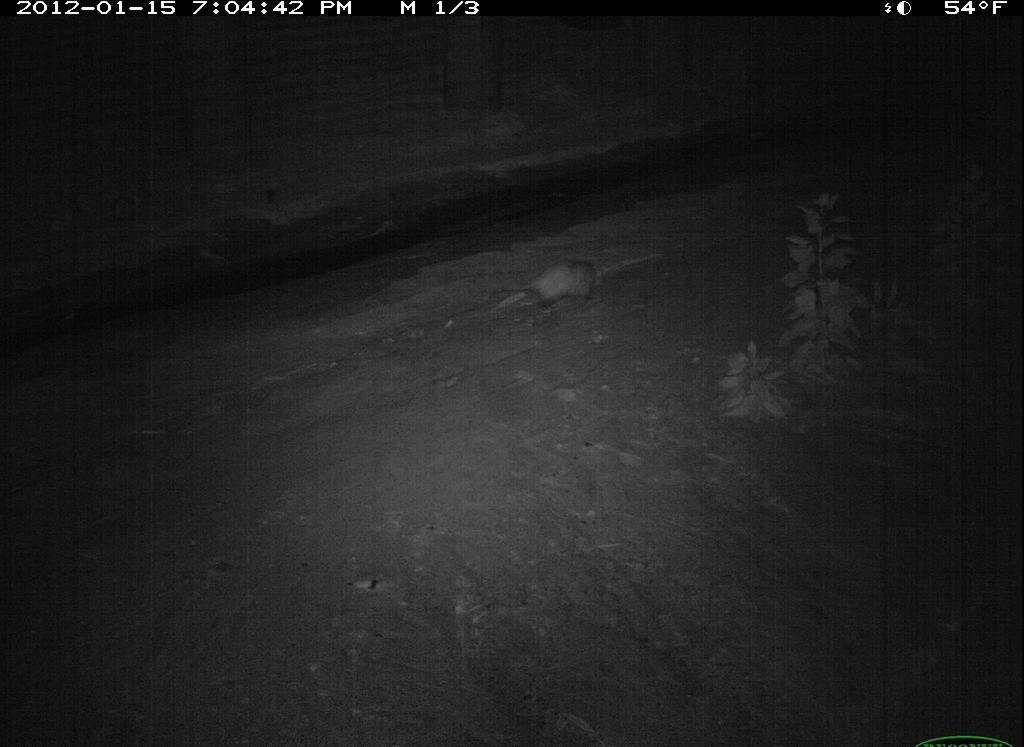opossum: (487, 249, 619, 324)
